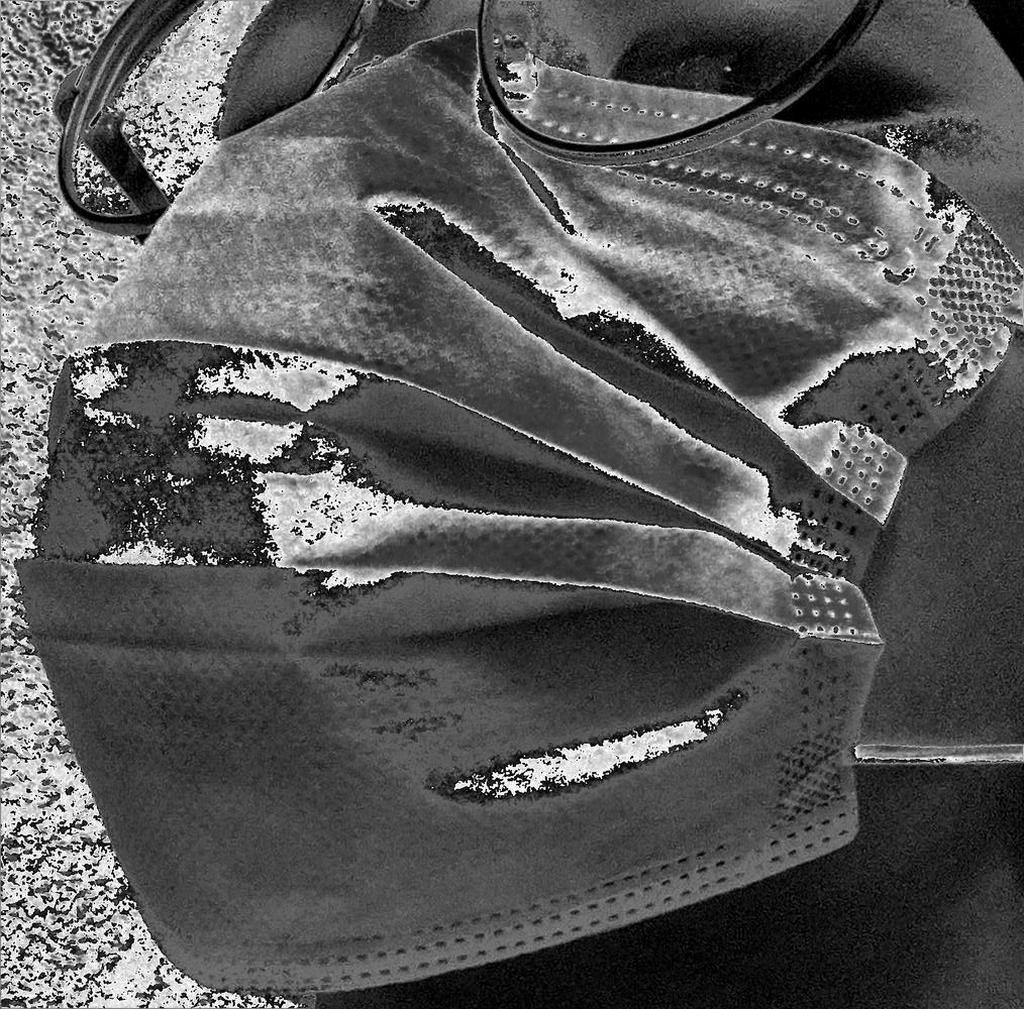Low GSM: (11, 27, 1018, 1003)
